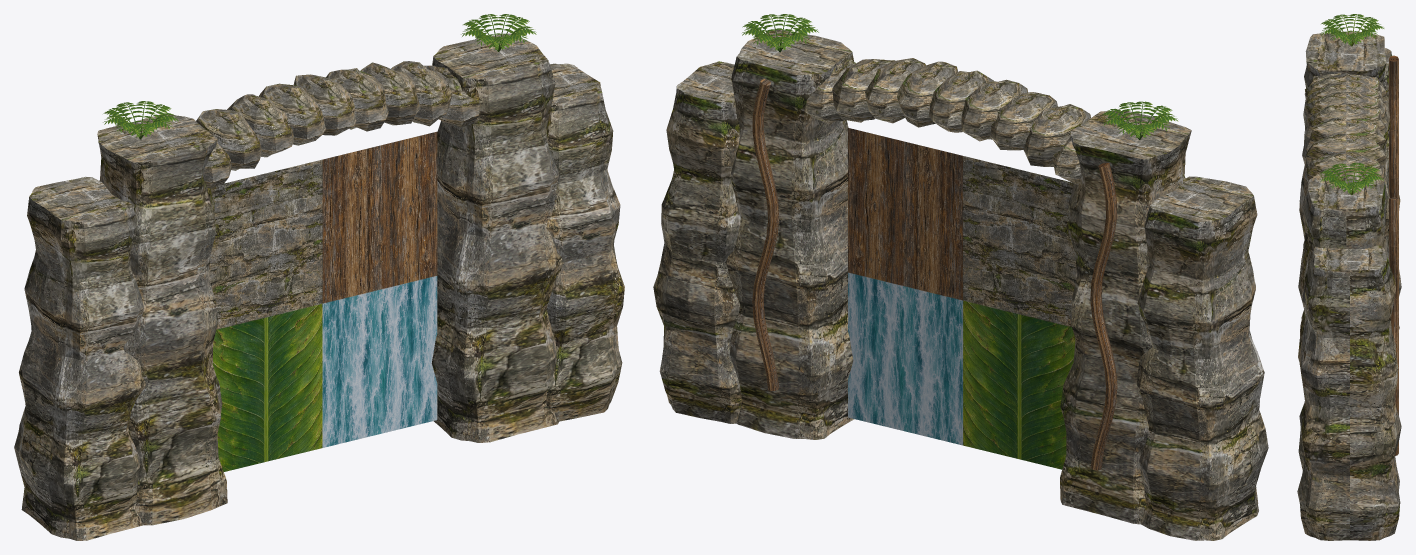
File: CoastalGate.fbx
3 views of the same model, side by side, from view 1: azimuth 30°, elevation 25°; view 2: azimuth 150°, elevation 25°; view 3: azimuth 270°, elevation 25° (orthographic). The views are drawn at different scales.
Parts seen in each view (by area): view 1: CoastalGateFrame, CoastalGateWater; view 2: CoastalGateFrame, CoastalGateWater; view 3: CoastalGateFrame.
Boxes of the visible parts, box(x1,y1,x2,y2) form: CoastalGateFrame: box(14, 14, 624, 540); CoastalGateWater: box(209, 131, 437, 471); CoastalGateFrame: box(653, 14, 1268, 540); CoastalGateWater: box(848, 128, 1077, 469); CoastalGateFrame: box(1297, 14, 1401, 540).
Size of the model in its own units: 16.09 by 10.28 by 2.96.
